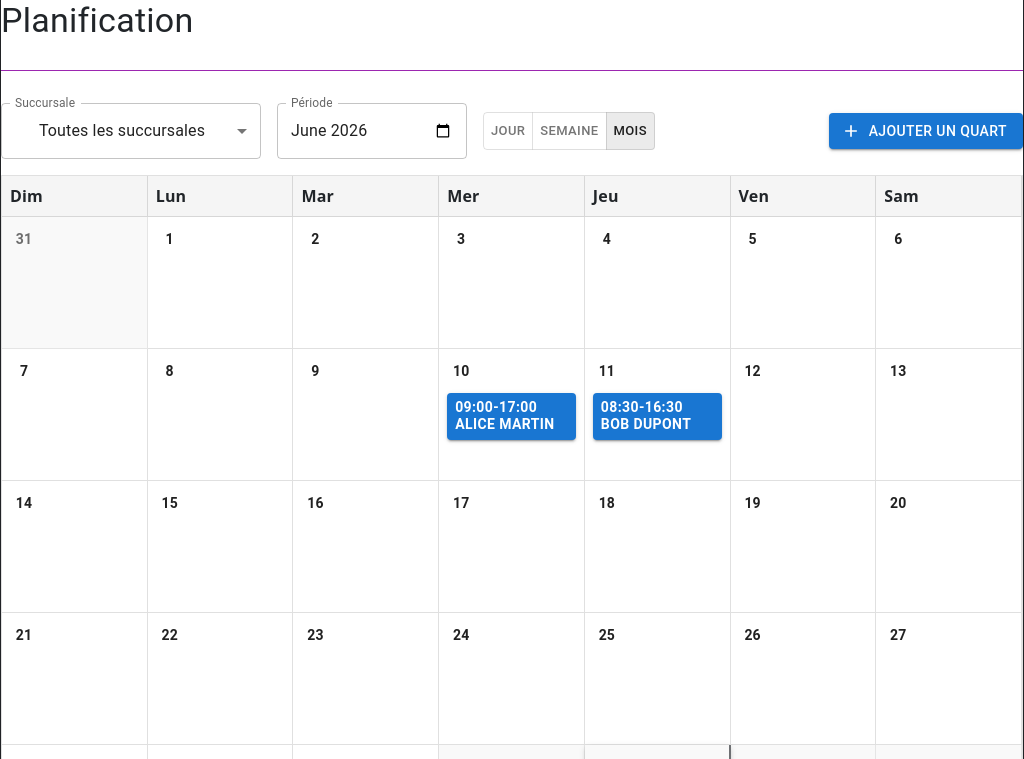
SchedulesPage › should change visible shifts when selecting a day or week view
This screenshot has width=1024, height=759.
Expected: the text "Alice Martin" is shown, [455,416,568,434]
Expected: the text "Bob Dupont" is shown, [601,416,691,432]
Click the button "Jour". click: (508, 131)
box: [483,112,533,150]
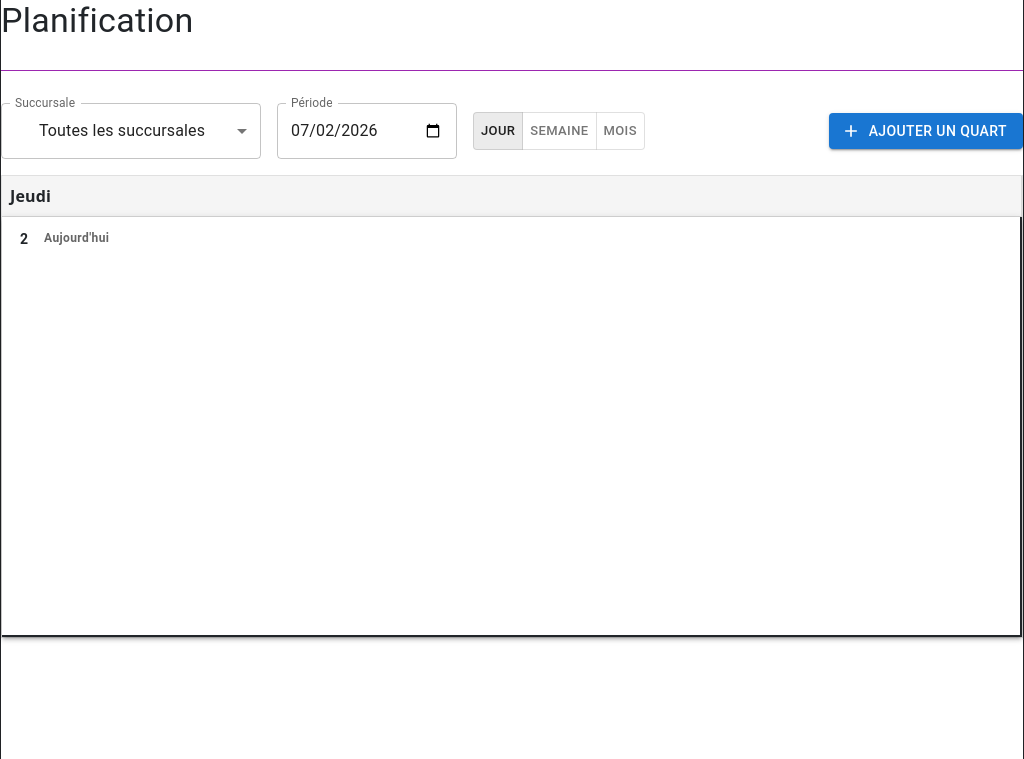
Expected: the date field labelled "Période" has attribute type="date"
Type "2026-06-10" into the date field labelled "Période". click: (367, 131)
box: [277,103,457,159]
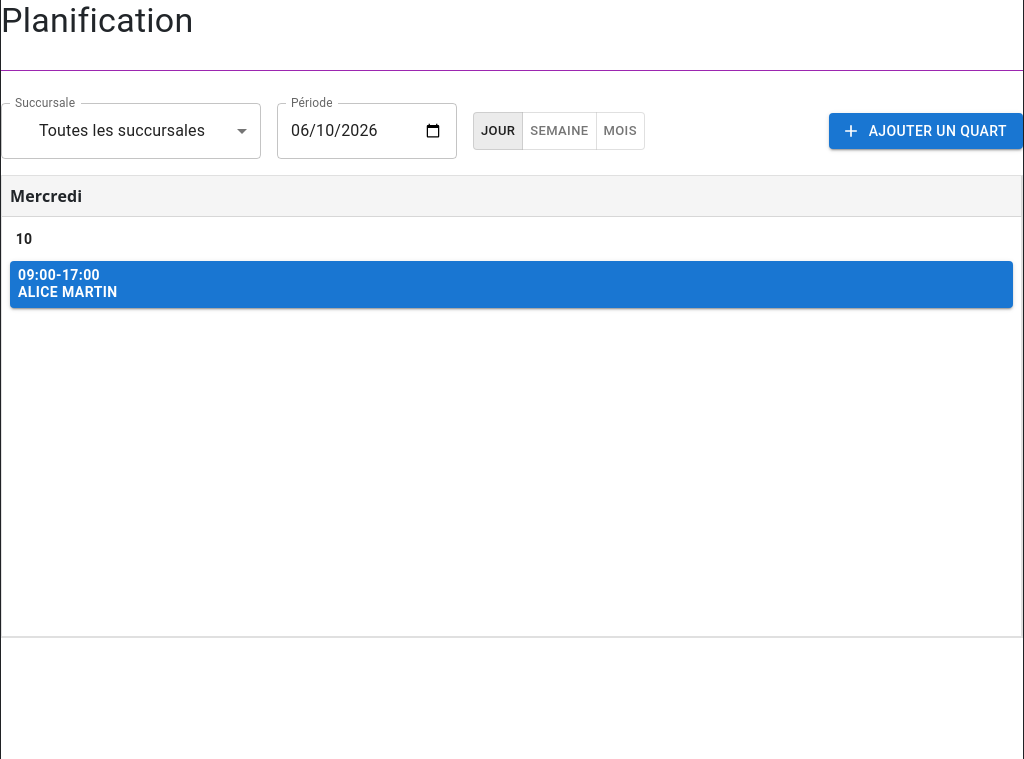
Expected: the button "Bob Dupont" is not shown
Expected: the text "Alice Martin" is shown, [18,284,118,300]
Click the button "Semaine". click: (559, 131)
box: [522,112,596,150]
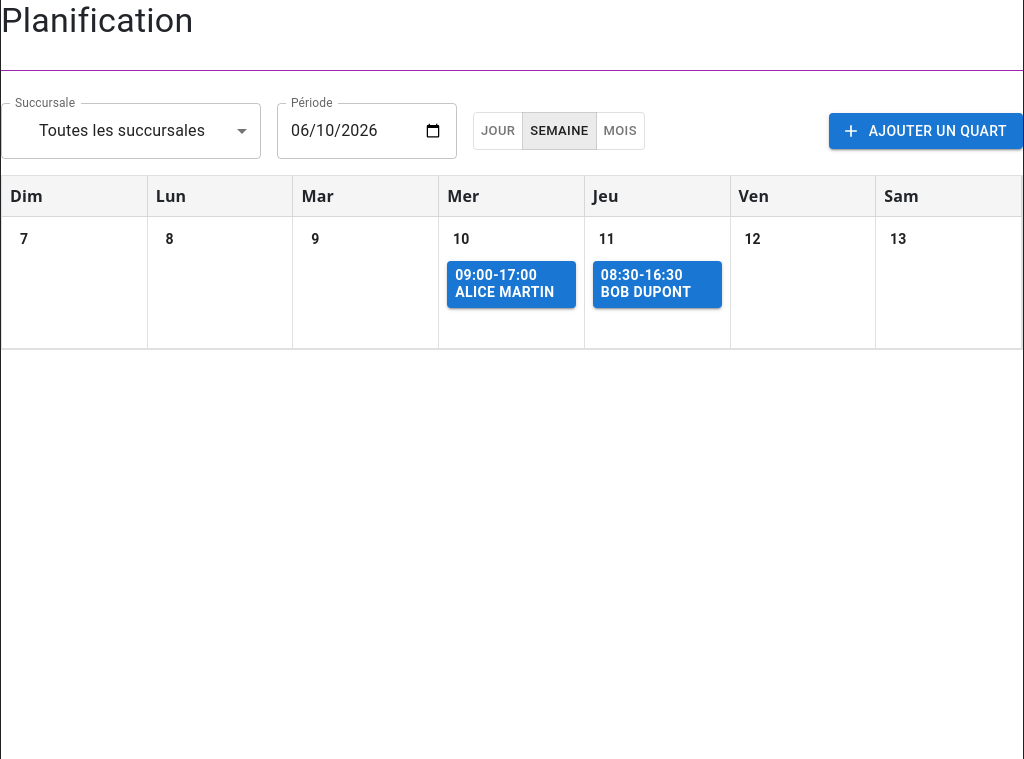
Expected: the text "Alice Martin" is shown, [455,284,568,302]
Expected: the text "Bob Dupont" is shown, [601,284,691,300]
